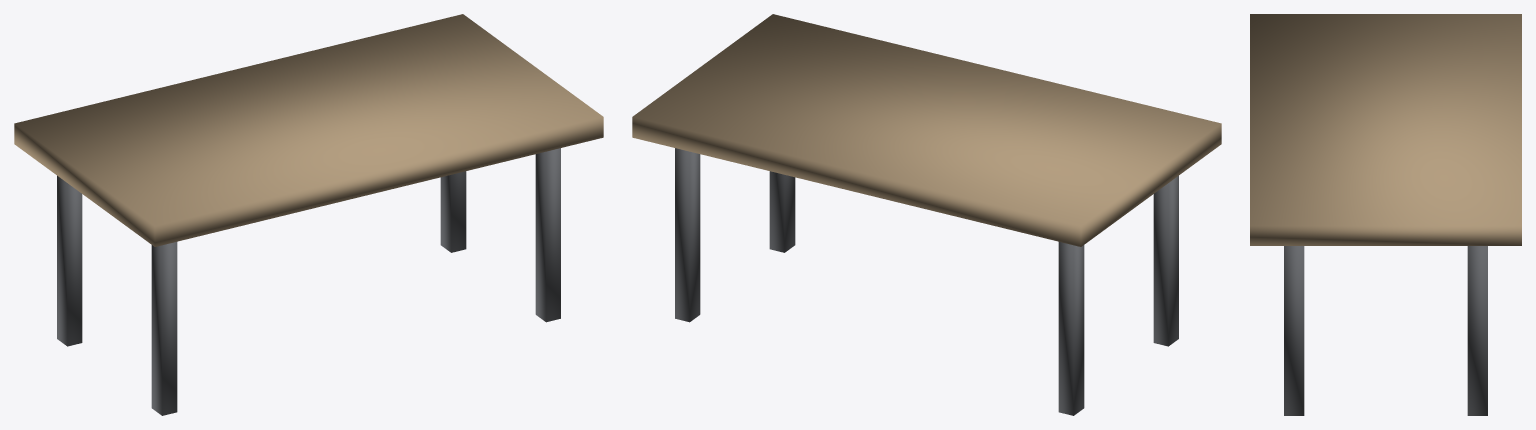
Rendered from library_reading_table__deep.glb.
3 renders of one model, left to right at view 1: azimuth 30°, elevation 25°; view 2: azimuth 150°, elevation 25°; view 3: azimuth 270°, elevation 25°, orthographic. The views are drawn at different scales.
Visible parts, largest first — view 1: world; view 2: world; view 3: world.
Boxes of the visible parts, box(x1,y1,x2,y2) form: world: box(14, 14, 603, 415); world: box(632, 14, 1221, 415); world: box(1250, 14, 1521, 415).
Bounding box in the file's own units: 1.8 × 0.8 × 0.976.
